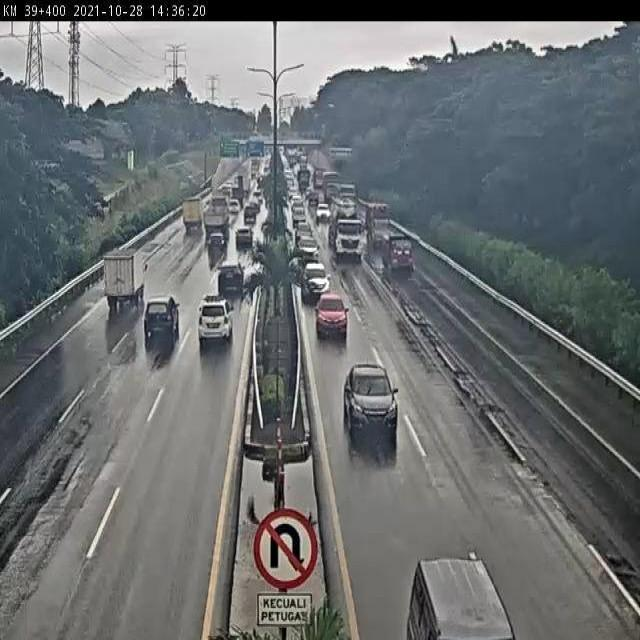car: (341, 360, 401, 437), (198, 296, 233, 345), (143, 296, 181, 339), (314, 292, 350, 337), (302, 261, 331, 300), (217, 263, 246, 297), (205, 231, 228, 257), (297, 235, 319, 261), (234, 224, 254, 249)
truck: (102, 249, 147, 308), (329, 196, 364, 260), (380, 225, 414, 275), (199, 198, 229, 238), (180, 196, 206, 232)
